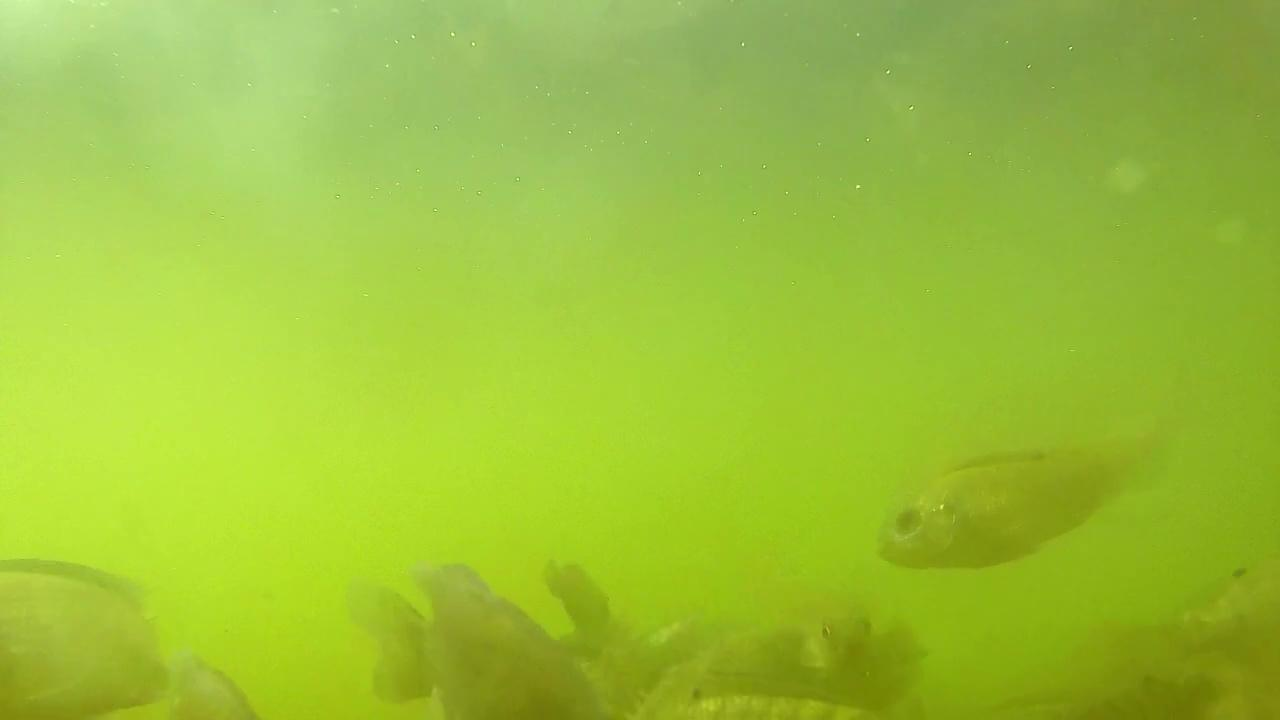Tilapia: (883, 422, 1174, 582), (0, 524, 179, 720)
